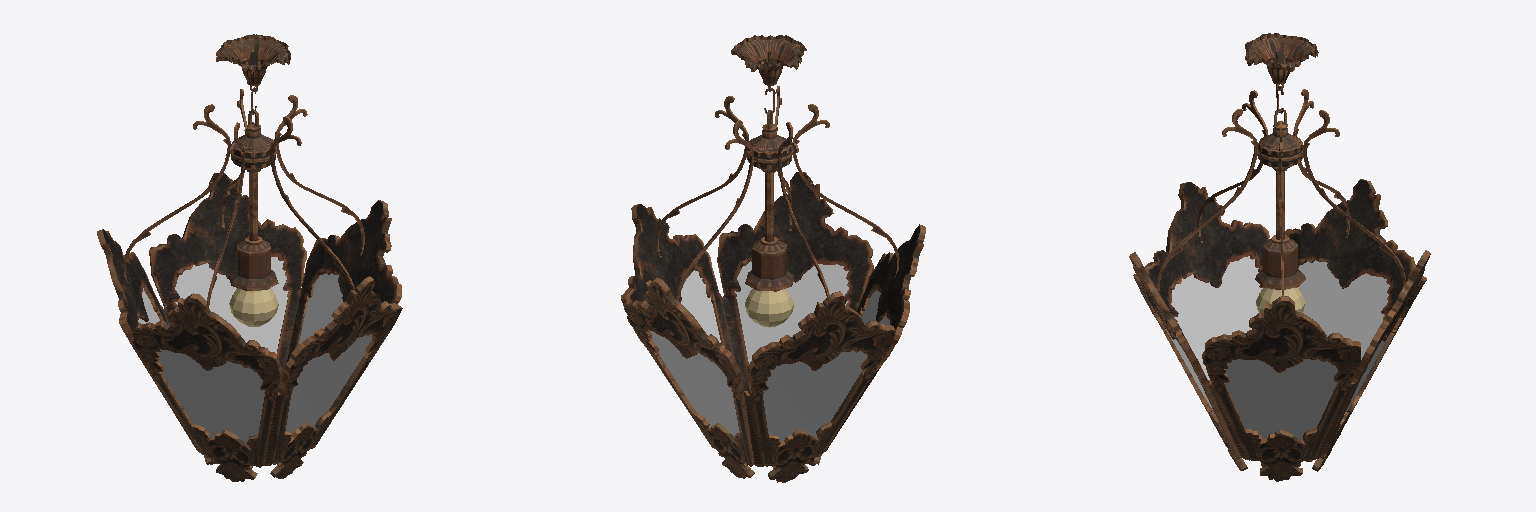
3 views of the same model, side by side, from view 1: azimuth 30°, elevation 25°; view 2: azimuth 150°, elevation 25°; view 3: azimuth 270°, elevation 25° (orthographic).
Parts seen in each view (by area): view 1: lantern_chandelier_01; view 2: lantern_chandelier_01; view 3: lantern_chandelier_01.
Part boxes in pixels (bbox=[...]): lantern_chandelier_01: bbox=[97, 34, 402, 481]; lantern_chandelier_01: bbox=[621, 35, 925, 482]; lantern_chandelier_01: bbox=[1129, 33, 1430, 481].
Size of the model in its own units: 0.5792 by 0.8776 by 0.5746.
Materials: 3 (1 with a texture image).